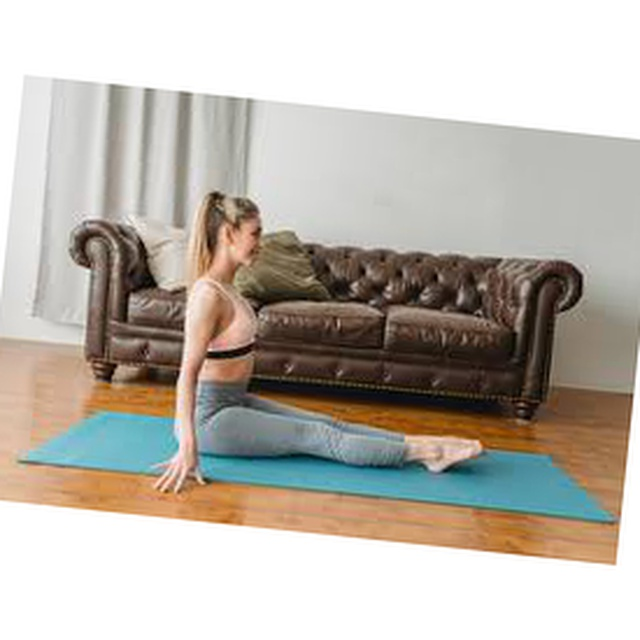Staff_Pose: (145, 187, 487, 496)
